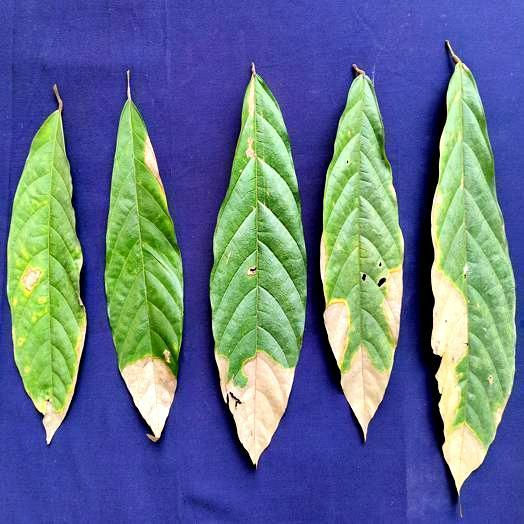Potassium: (210, 66, 306, 465), (431, 42, 515, 494), (320, 65, 403, 439), (105, 71, 183, 440), (7, 85, 86, 443)
